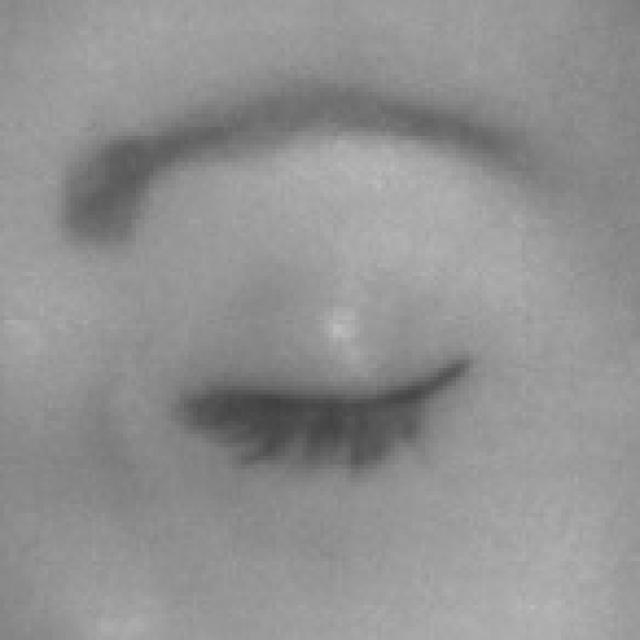Eyeclosed: (194, 285, 477, 528)
